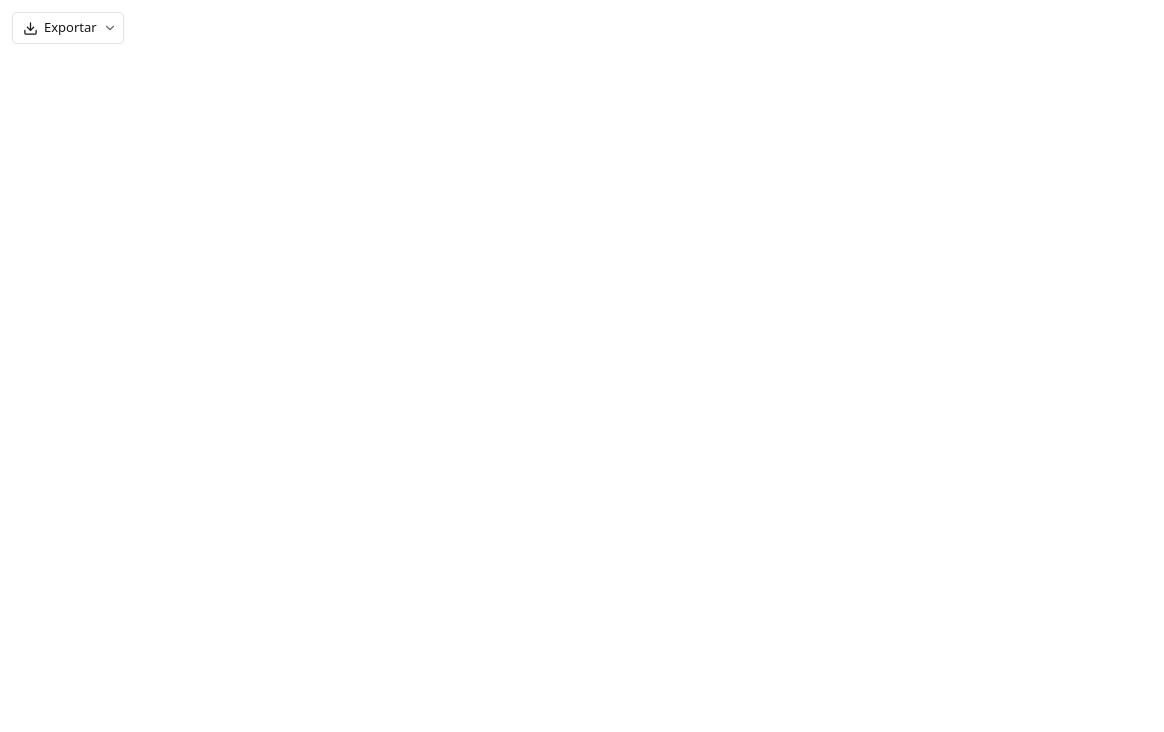
Test: menú Exportar (D11) › cada opción deshabilitada dice por qué
Click the button "Exportar".
click(68, 28)  # box [12,12,124,44]
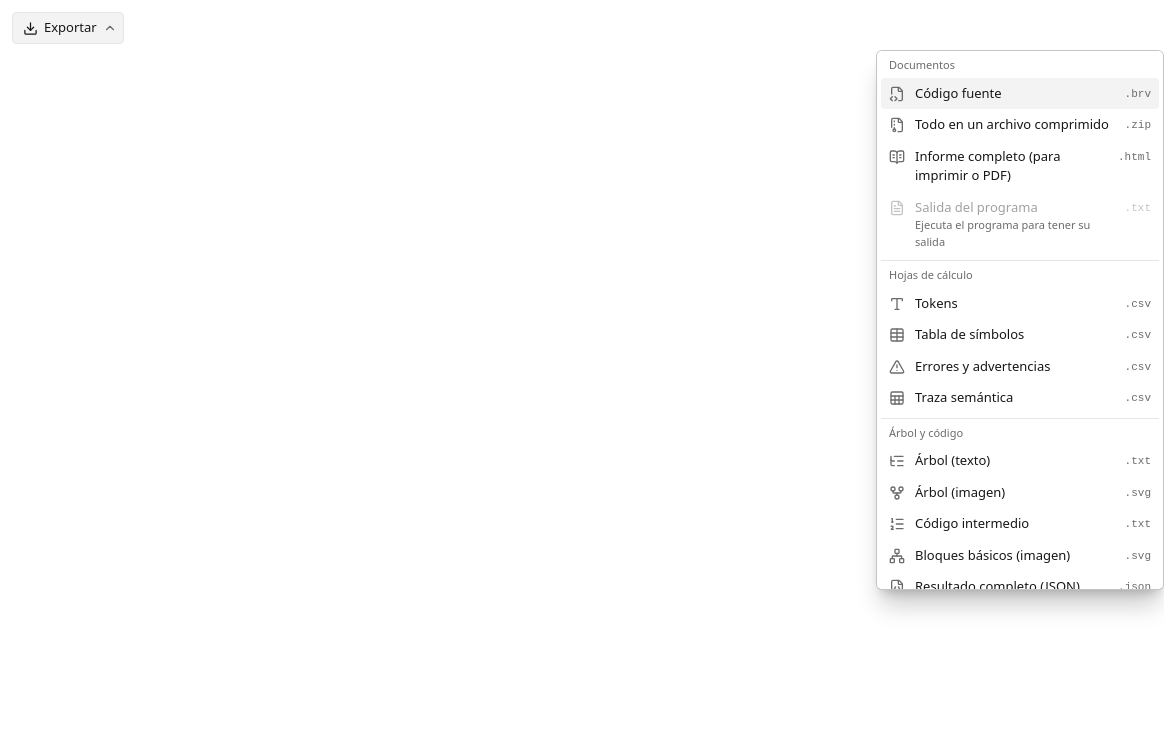
Now the menu item "Salida del programa" shows "Ejecuta el programa para tener su salida", box [881,192,1159,256]
